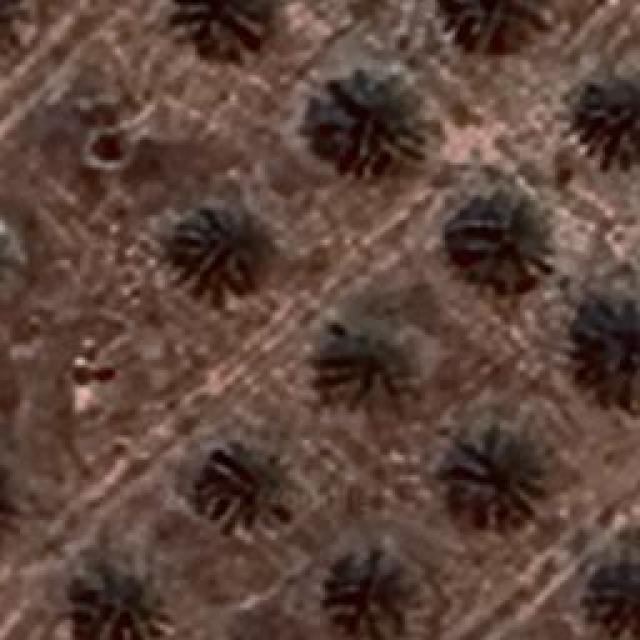PalmTree: (98, 88, 613, 599), (54, 78, 378, 596), (317, 68, 425, 170), (454, 181, 548, 294), (448, 430, 542, 520), (200, 442, 295, 530), (320, 318, 420, 400), (70, 560, 168, 638), (172, 207, 266, 285), (582, 290, 638, 402), (578, 68, 638, 162), (175, 0, 270, 52), (448, 0, 550, 48), (0, 443, 23, 550), (0, 443, 16, 548), (0, 218, 17, 312), (0, 0, 29, 52)
